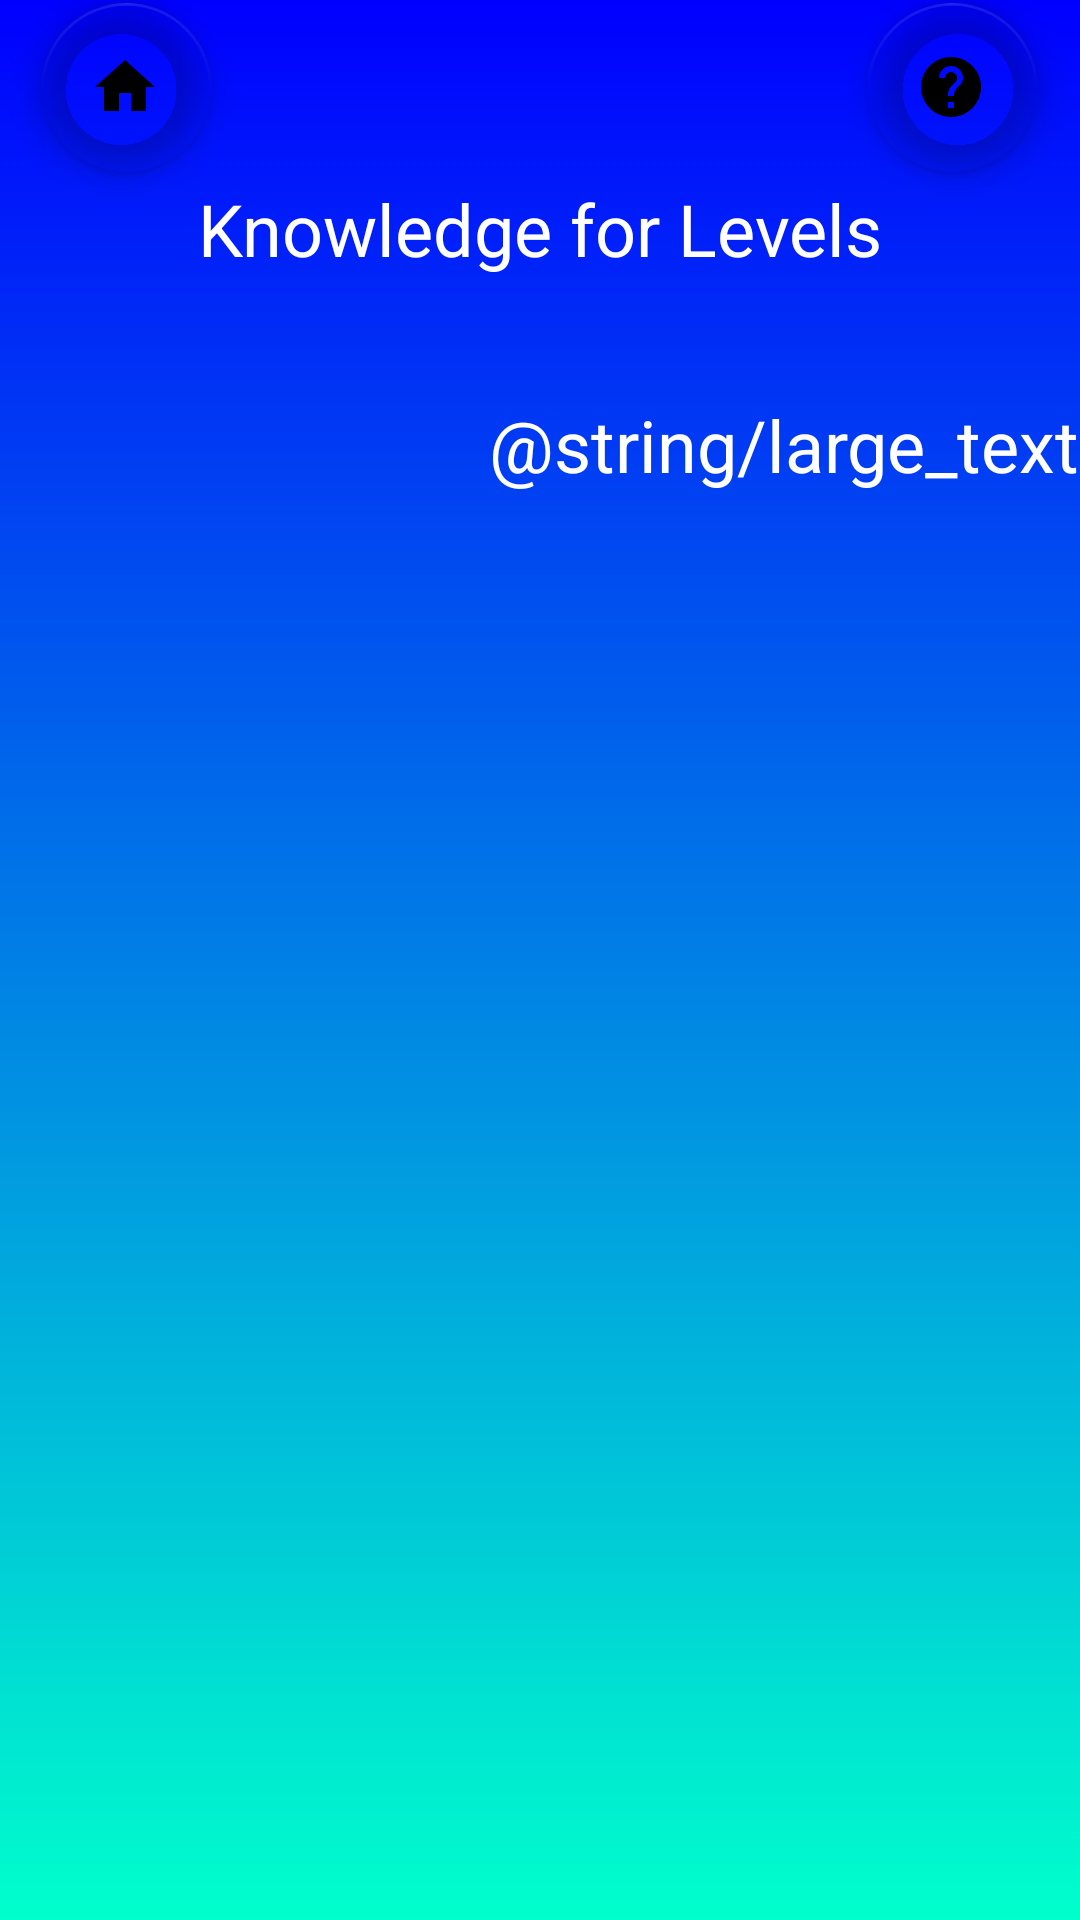

Icons on this 1080 × 1920 Android screen, each with its box as [x1,y1,x2,y2]:
help: [867,3,1038,174]
home: [41,3,212,174]
